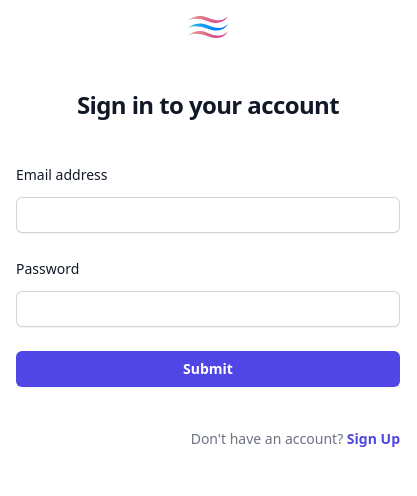
Scenario: Sign In submit button on click failed
The width and height of the screenshot is (417, 496).
In the field labelled "Email address": (208, 215) [16, 197, 400, 233], type "alex@test.com"
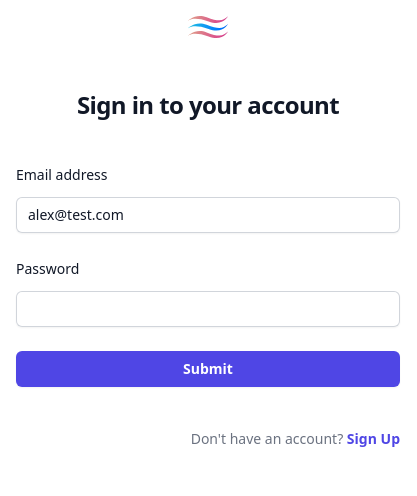
In the password field labelled "Password": (208, 309) [16, 291, 400, 327], type "12345"
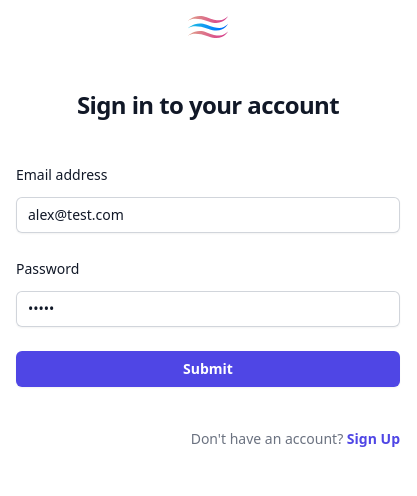
Click the button "Submit": (208, 369) [16, 351, 400, 387]
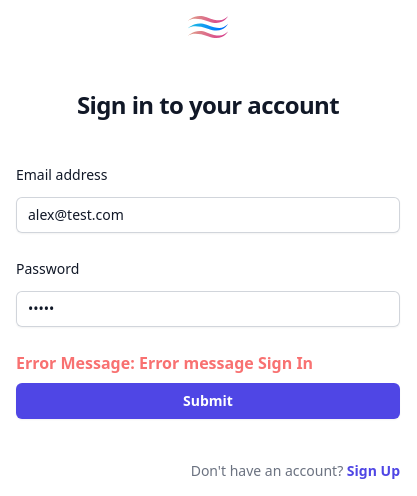
Expected: the text "Error Message: Error message Sign In" is shown, [16, 352, 313, 374]
